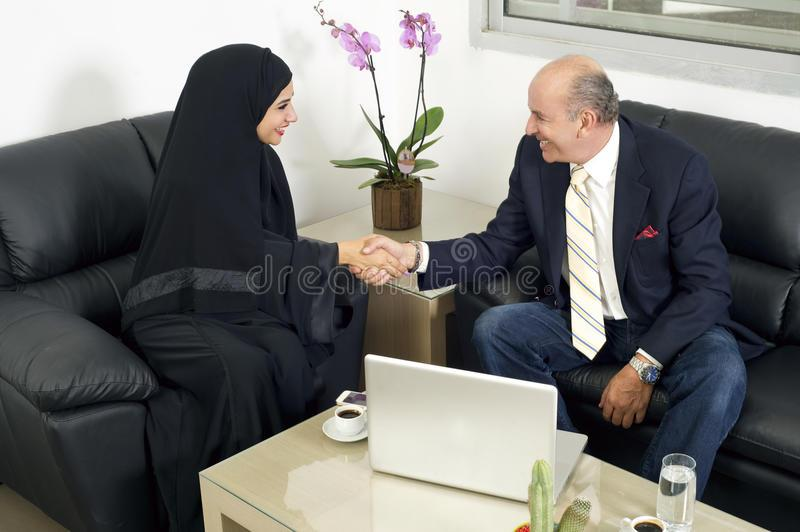No Mask: (512, 86, 598, 211), (244, 73, 331, 179)
